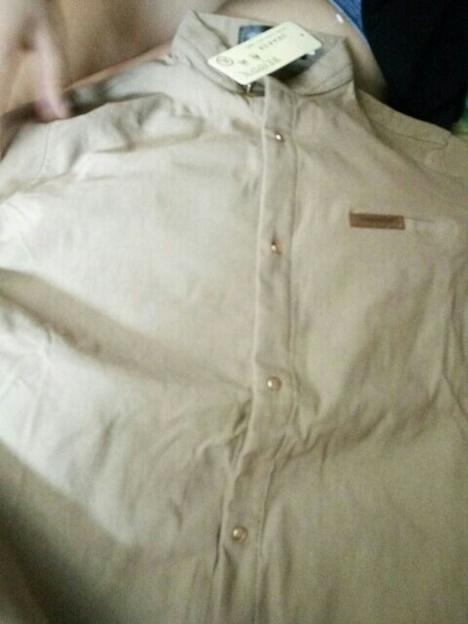C_shirt: (3, 12, 468, 622)
